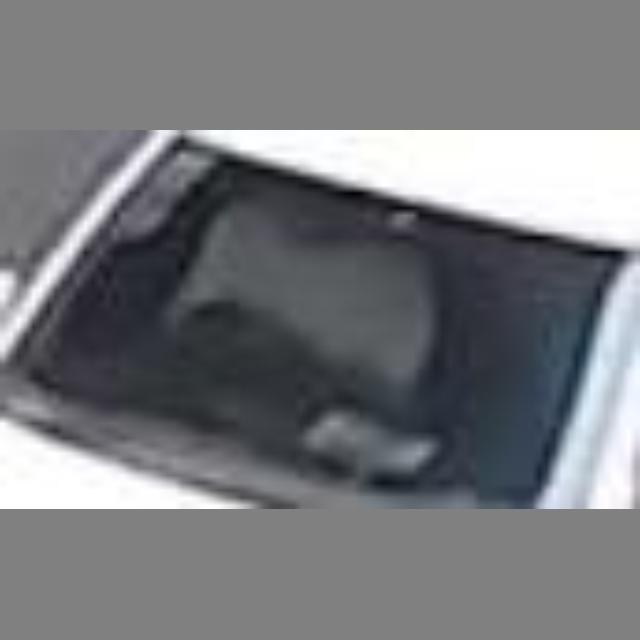tidak-pakai: (149, 145, 476, 428)
